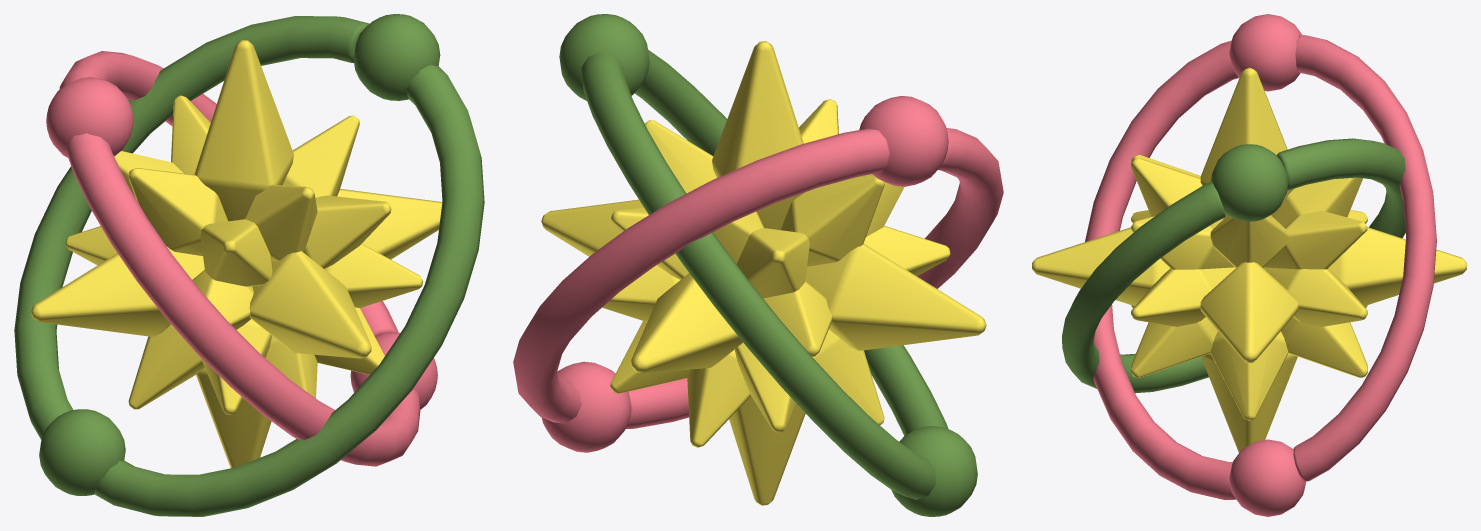
Rendered from AtomicStar.fbx.
3 views of the same model, side by side, from view 1: azimuth 30°, elevation 25°; view 2: azimuth 150°, elevation 25°; view 3: azimuth 270°, elevation 25° (orthographic). The views are drawn at different scales.
Visible parts, largest first — view 1: M_AtomicStar, S_AtomicStar; view 2: M_AtomicStar, S_AtomicStar; view 3: M_AtomicStar, S_AtomicStar.
Part boxes in pixels (left/top/right/bottom): M_AtomicStar: left=31, top=14, right=442, bottom=495; S_AtomicStar: left=14, top=16, right=484, bottom=516; M_AtomicStar: left=541, top=14, right=986, bottom=516; S_AtomicStar: left=513, top=49, right=1003, bottom=499; M_AtomicStar: left=1032, top=14, right=1466, bottom=516; S_AtomicStar: left=1062, top=35, right=1436, bottom=499.
Size of the model in its own units: 929 by 929 by 929.
